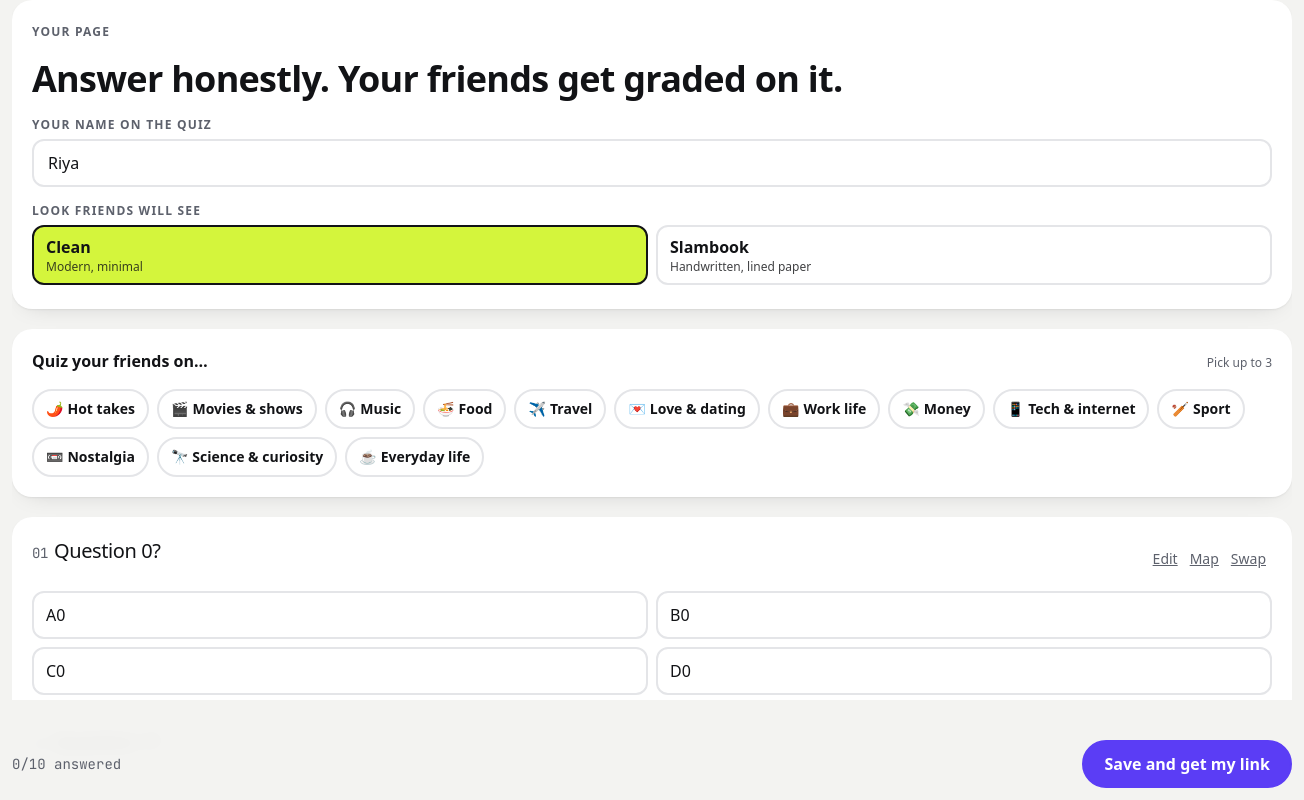
Test: QuizBuilder › counts answers as the creator picks them
This screenshot has width=1304, height=800.
Expected: the text "0/10 answered" is shown, left=12, top=754, right=121, bottom=774
Click the radio button labelled "C0". click: click(56, 671)
box: left=32, top=647, right=648, bottom=695
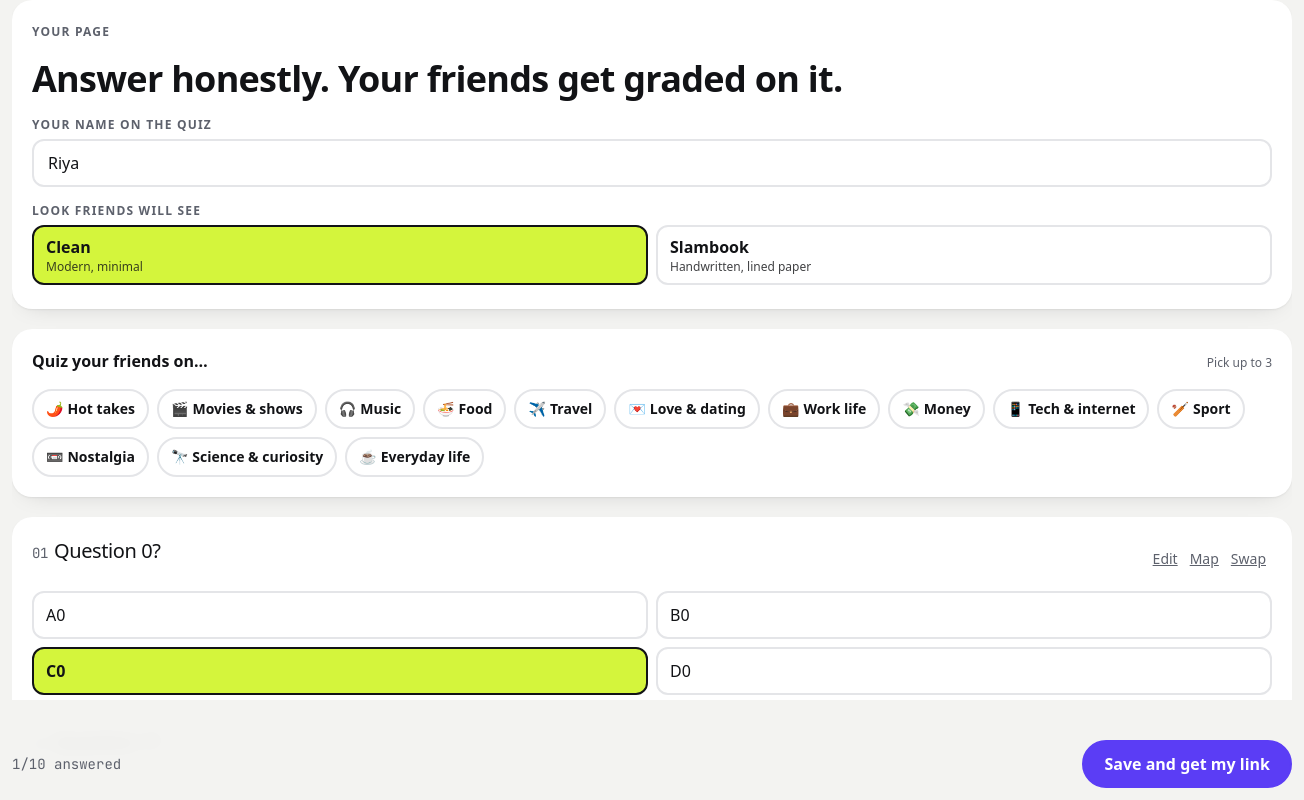
Expected: the text "1/10 answered" is shown, left=12, top=754, right=121, bottom=774
